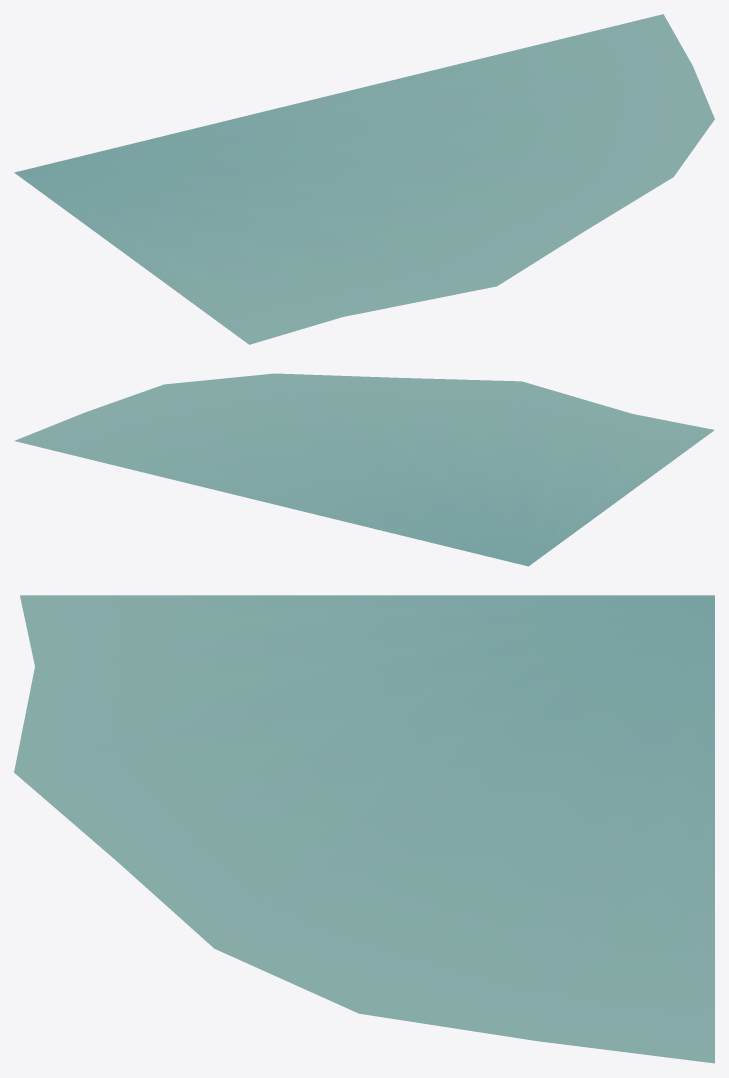
Rendered from water-15-13.glb.
3 views of the same model, one above another, from view 1: azimuth 30°, elevation 25°; view 2: azimuth 150°, elevation 25°; view 3: azimuth 270°, elevation 25° (orthographic). The views are drawn at different scales.
Size of the model in its own units: 13.16 by 0 by 8.33.
